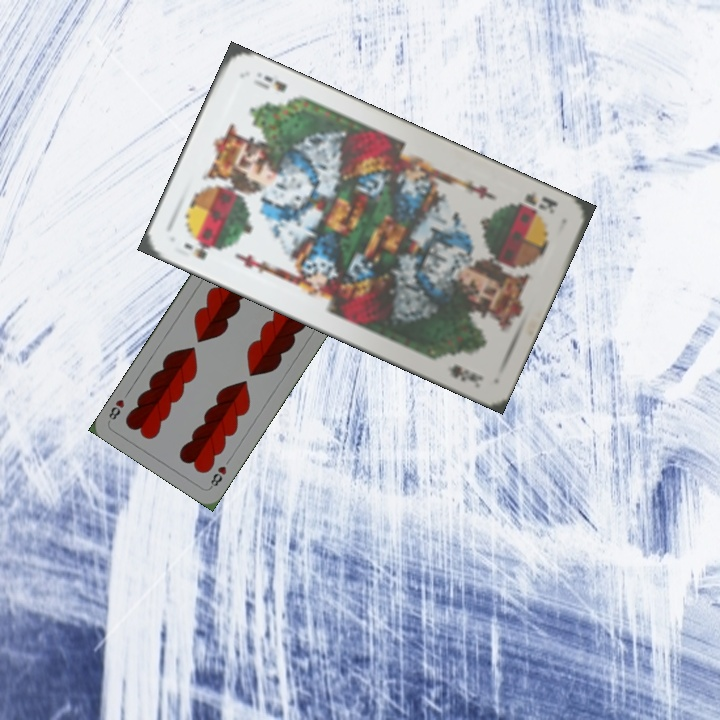H8: (206, 462, 229, 491)
SK: (521, 187, 561, 217), (179, 238, 212, 262)
